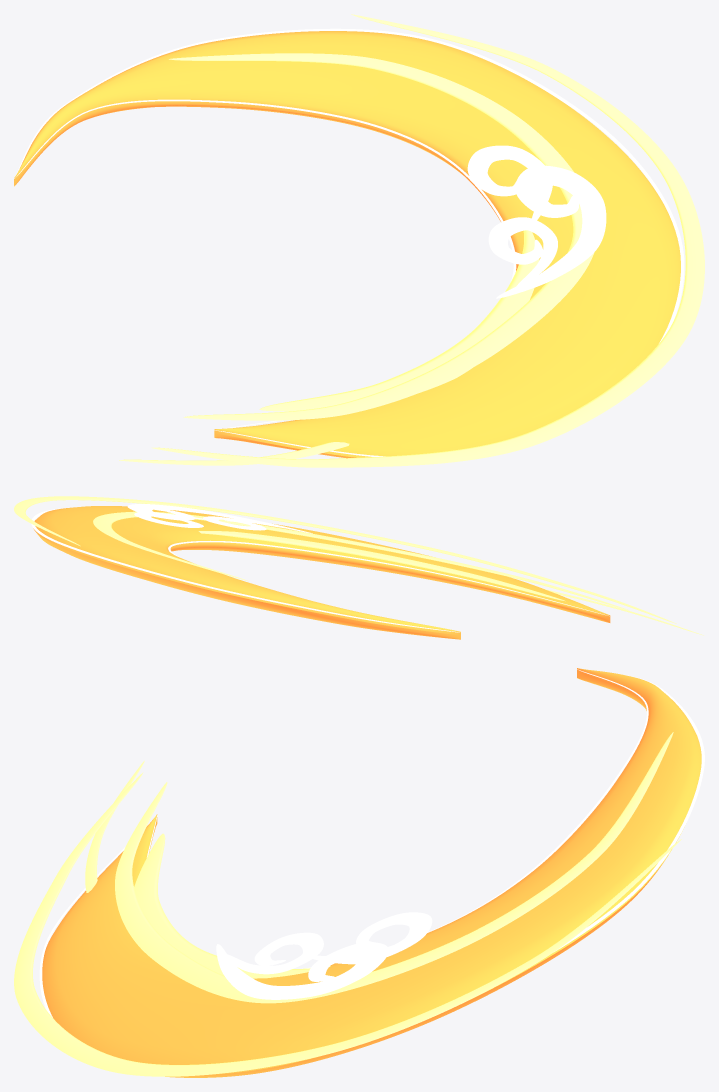
Rendered from SM_DBA_AttackSlash_V2.fbx.
3 renders of one model, top to bottom at view 1: azimuth 30°, elevation 25°; view 2: azimuth 150°, elevation 25°; view 3: azimuth 270°, elevation 25°, orthographic. The views are drawn at different scales.
Visible parts, largest first — view 1: SM_DBA_AttackSlash_V2; view 2: SM_DBA_AttackSlash_V2; view 3: SM_DBA_AttackSlash_V2.
Boxes of the visible parts, box(x1,y1,x2,y2) form: SM_DBA_AttackSlash_V2: box(14, 14, 704, 467); SM_DBA_AttackSlash_V2: box(14, 496, 703, 639); SM_DBA_AttackSlash_V2: box(14, 668, 704, 1077).
Bounding box in the file's own units: 611 × 494 × 180.
